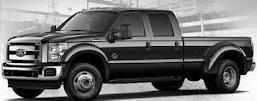car: (3, 7, 257, 101)
